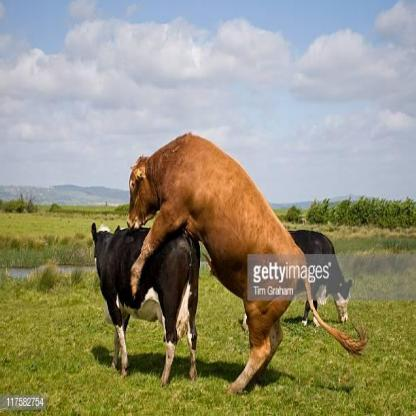cow: (127, 131, 367, 394), (90, 221, 199, 384), (287, 228, 353, 328)
